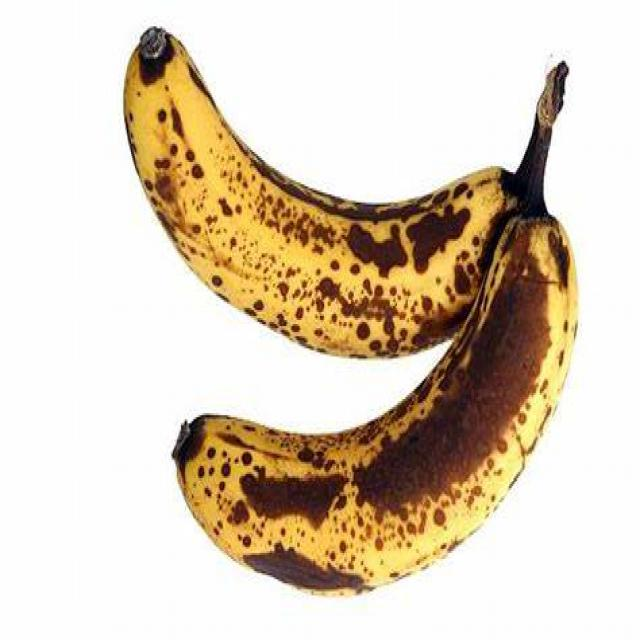Banana: (158, 216, 584, 598), (113, 22, 521, 360)
